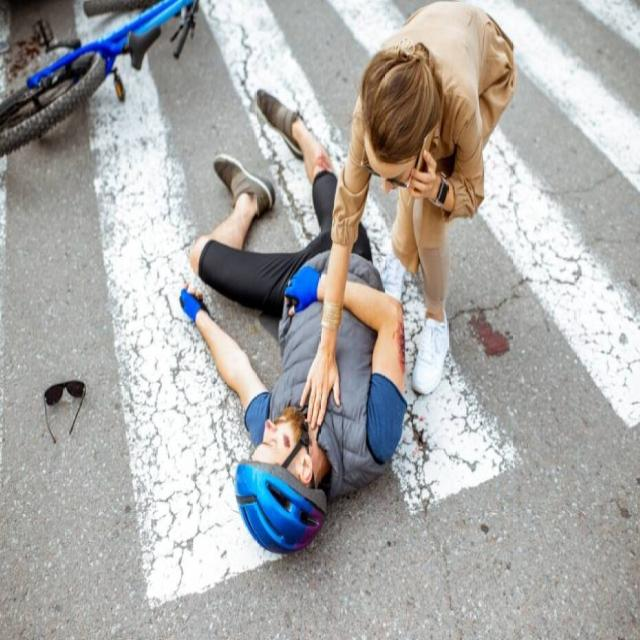INJURED PERSON: (132, 128, 475, 540)
